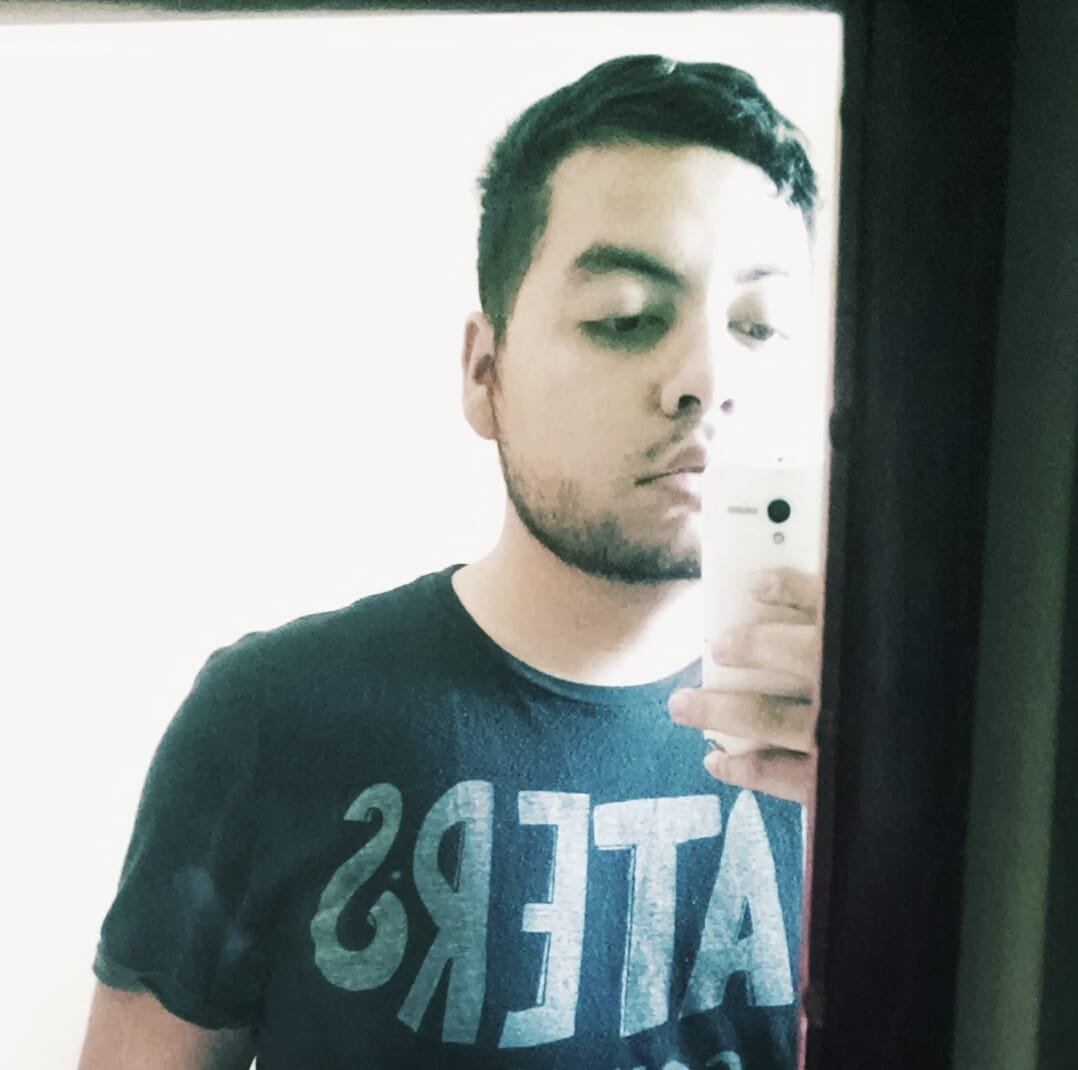Yoshi: (216, 65, 811, 962)
